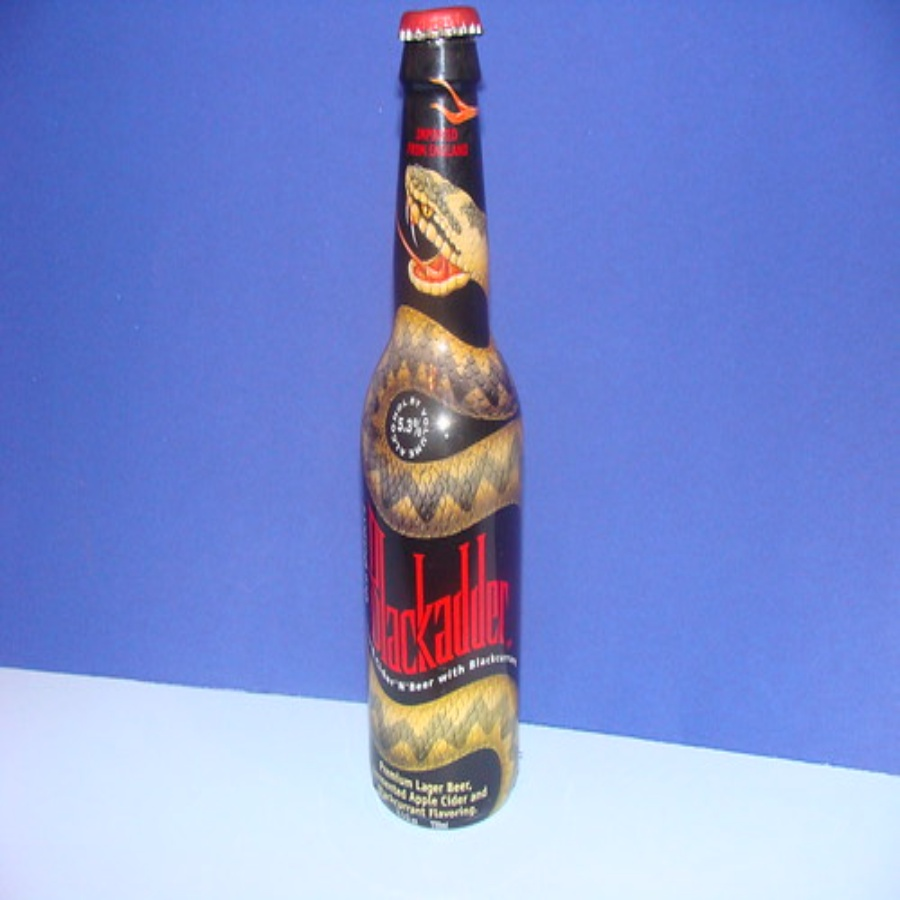beer: (367, 6, 523, 822)
